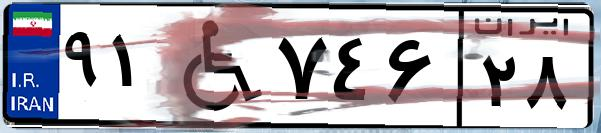1: (110, 28, 158, 98)
2: (475, 38, 525, 113)
4: (330, 28, 385, 110)
6: (385, 28, 445, 110)
7: (270, 28, 330, 110)
8: (525, 38, 570, 115)
9: (57, 26, 110, 100)
ژ (معلولین و جانبازان): (158, 12, 270, 120)
